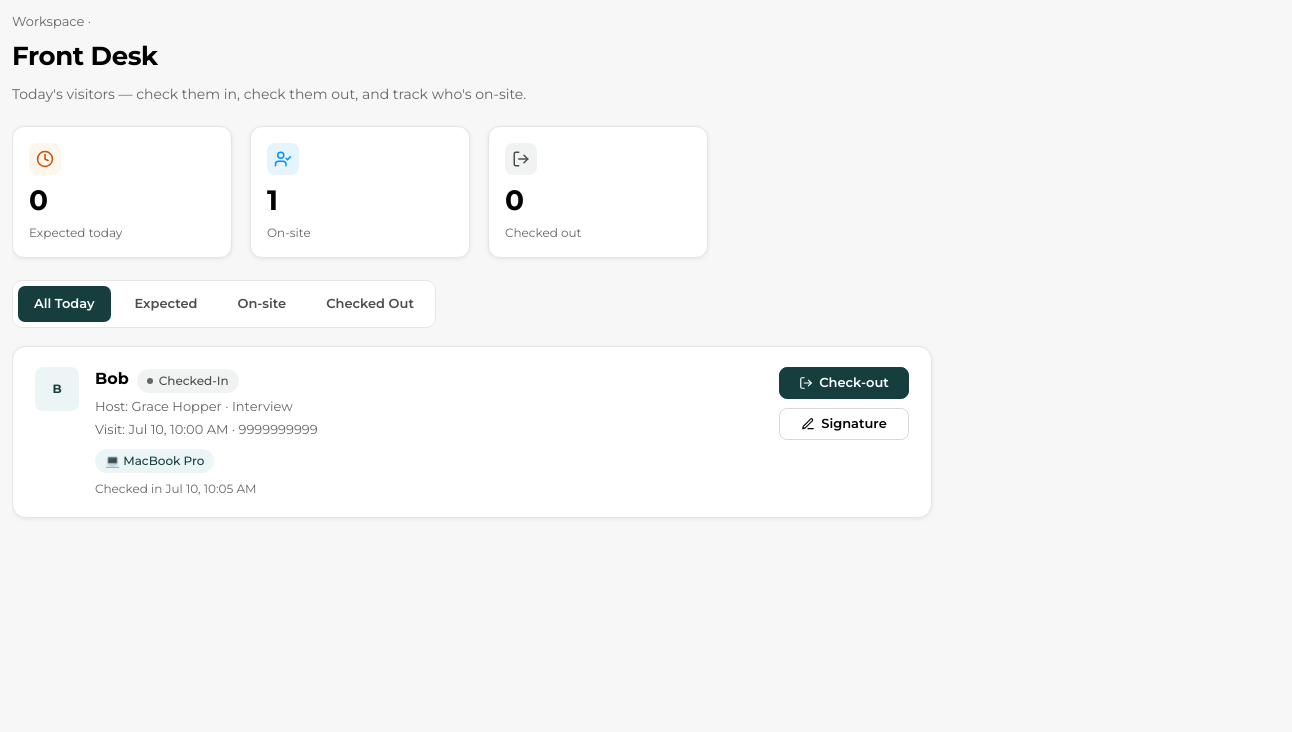
Test: Check-out transitions a Checked-In visitor
Check: the text "Bob" is shown, box [95,367,129,391]
Click the button "Check-out".
click(844, 383)  # box [779,367,909,399]
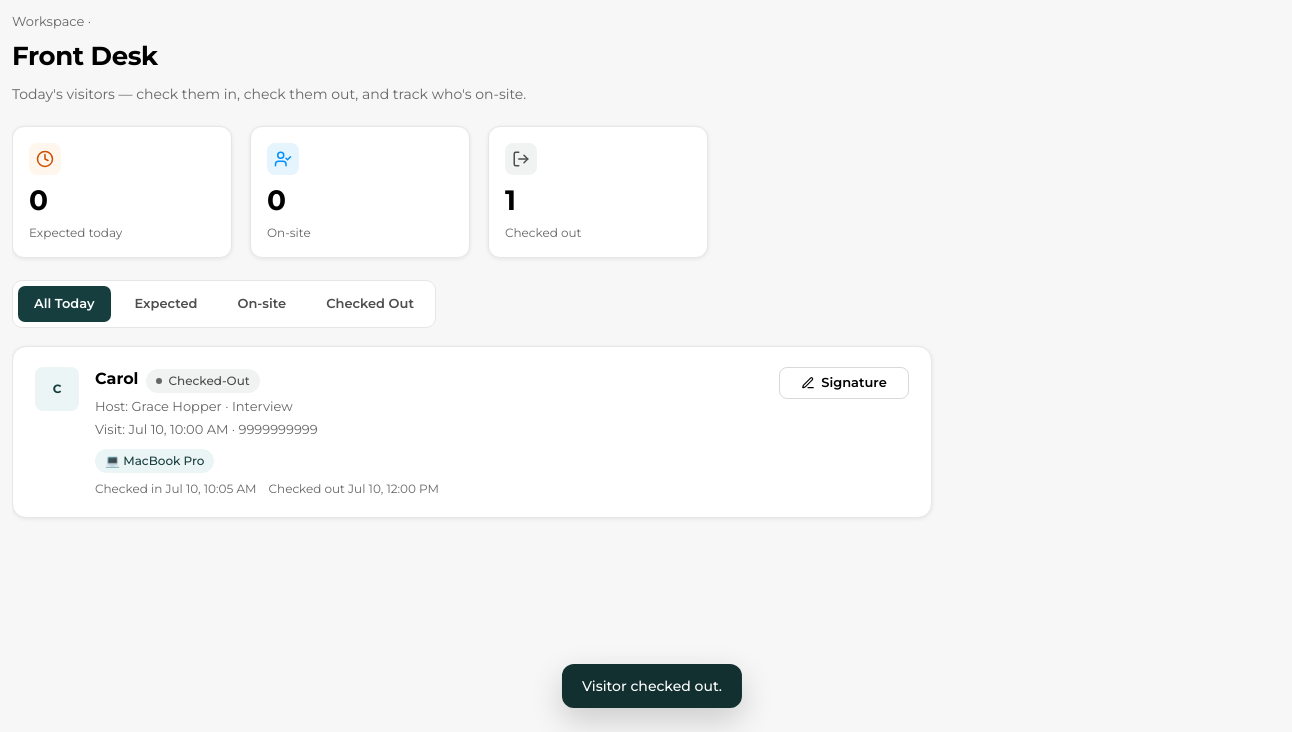
Check: the text "Visitor checked out." is shown, box [562,664,742,708]
